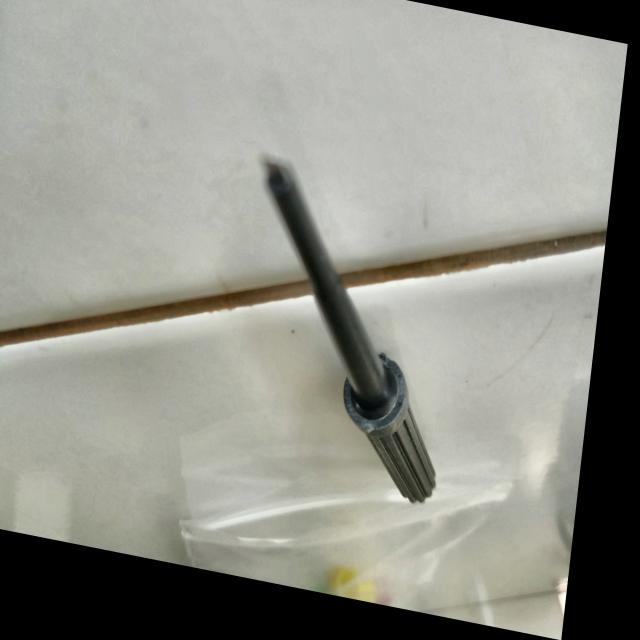Screw Driver: (213, 149, 475, 536)
